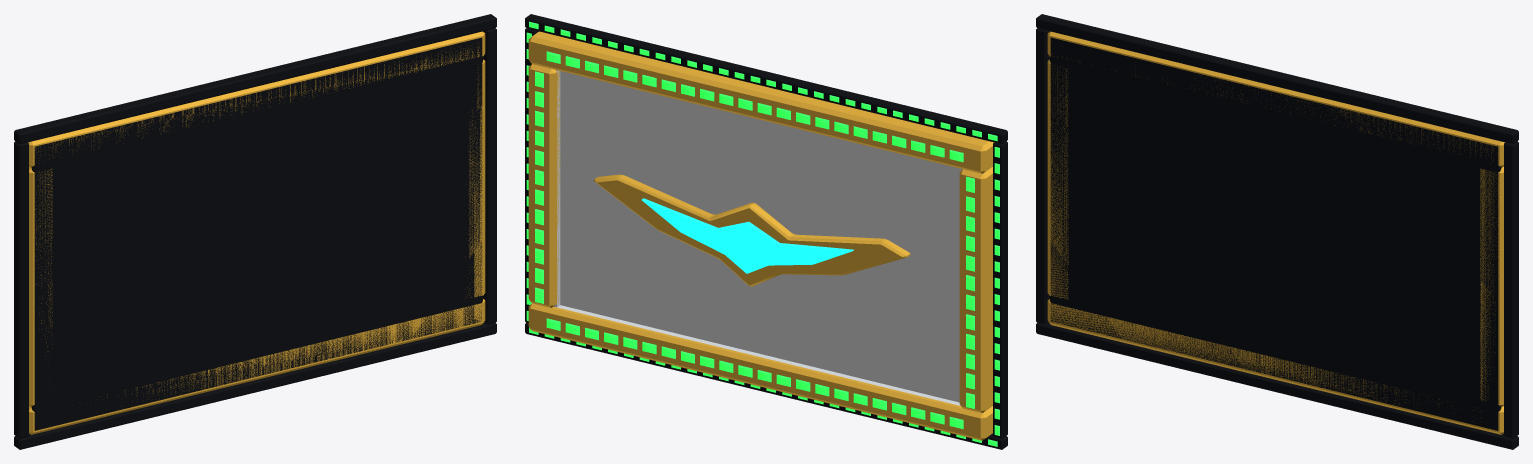
The model's file is grille_honey_sun.glb.
The picture shows the model from 3 angles, left to right: view 1: azimuth 30°, elevation 25°; view 2: azimuth 150°, elevation 25°; view 3: azimuth 330°, elevation 25°; orthographic projection.
Visible parts, largest first — view 1: grille_honey_sun_deco_trim, grille_honey_sun_paint_gold; view 2: grille_honey_sun_deco_honey, grille_honey_sun_paint_gold, grille_honey_sun_deco_led, grille_honey_sun_deco_trim, grille_honey_sun_CEN_paint_gold, grille_honey_sun_CEN_deco_neon, grille_honey_sun_chrome; view 3: grille_honey_sun_deco_trim, grille_honey_sun_paint_gold.
Part boxes in pixels (bbox=[...]): grille_honey_sun_deco_trim: bbox=[14, 14, 496, 449]; grille_honey_sun_paint_gold: bbox=[28, 31, 485, 434]; grille_honey_sun_deco_honey: bbox=[560, 71, 961, 402]; grille_honey_sun_paint_gold: bbox=[528, 31, 993, 440]; grille_honey_sun_deco_led: bbox=[526, 21, 999, 446]; grille_honey_sun_deco_trim: bbox=[525, 14, 1007, 449]; grille_honey_sun_CEN_paint_gold: bbox=[594, 174, 910, 286]; grille_honey_sun_CEN_deco_neon: bbox=[641, 198, 854, 273]; grille_honey_sun_chrome: bbox=[554, 70, 962, 405]; grille_honey_sun_deco_trim: bbox=[1036, 14, 1518, 449]; grille_honey_sun_paint_gold: bbox=[1047, 31, 1504, 434].
Size of the model in its own units: 1.36 by 0.86 by 0.112.
